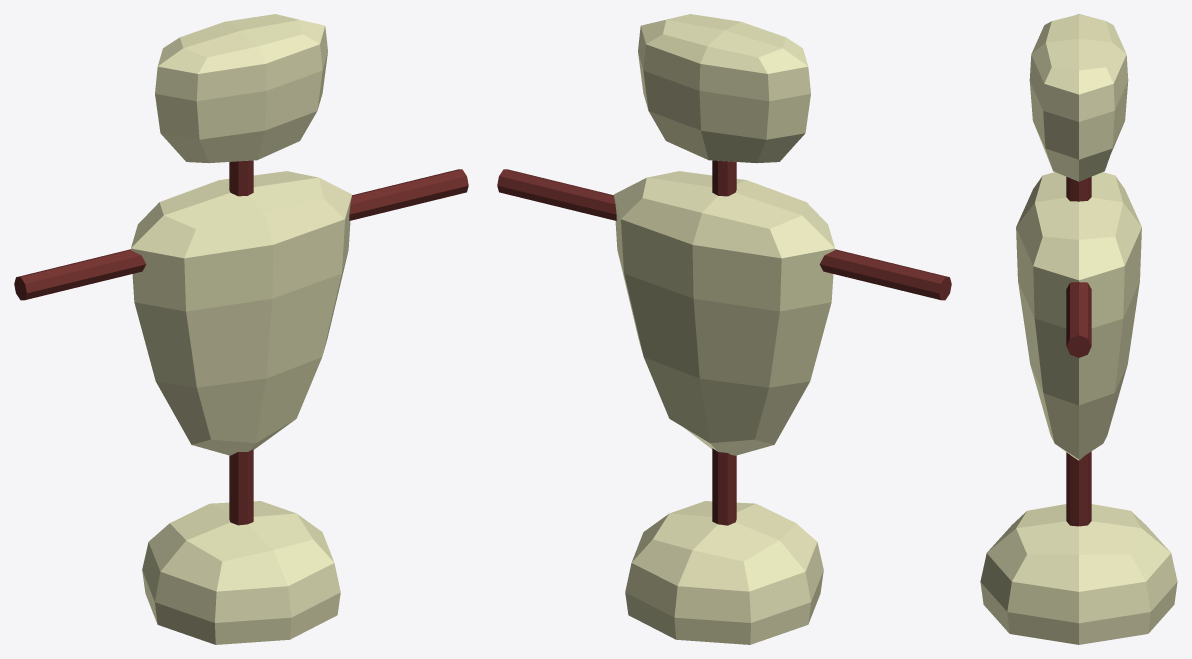
The model's file is 3dm_Dummy.glb.
3 renders of one model, left to right at view 1: azimuth 30°, elevation 25°; view 2: azimuth 150°, elevation 25°; view 3: azimuth 270°, elevation 25°, orthographic.
Visible parts, largest first — view 1: Cube; view 2: Cube; view 3: Cube.
Part boxes in pixels (box(x1,y1,x2,y2)): Cube: box(14, 14, 468, 644); Cube: box(497, 14, 951, 644); Cube: box(980, 14, 1177, 644).
Bounding box in the file's own units: 2 × 2.48 × 0.7838.
